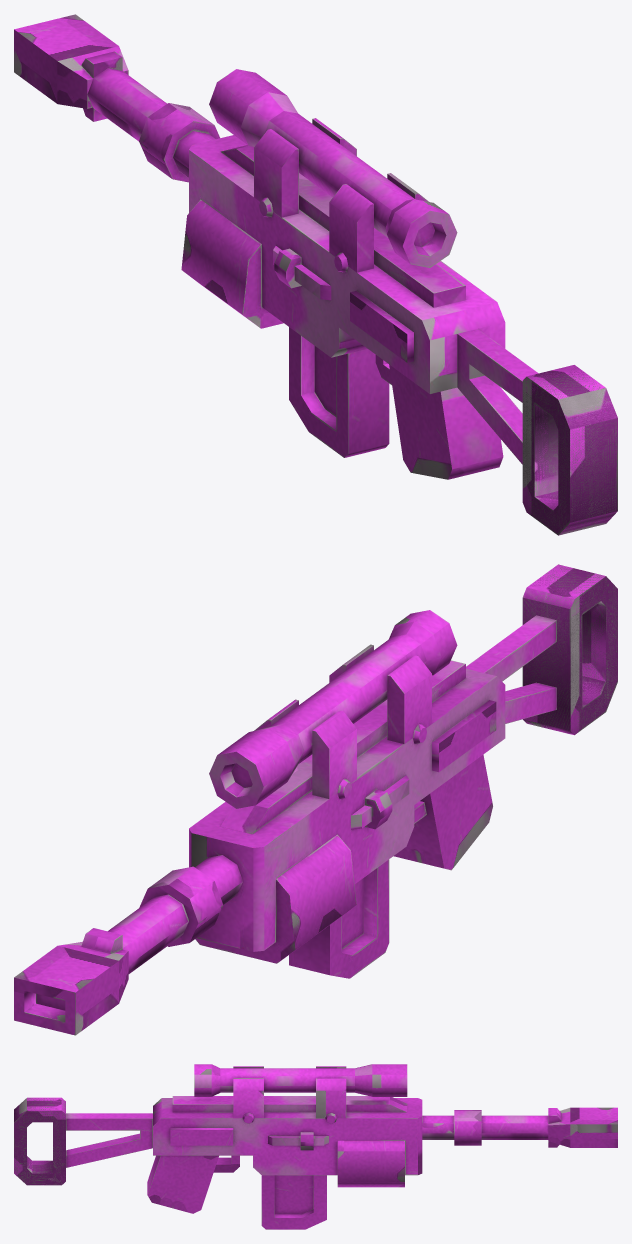
Rendered from blaster-e.glb.
3 renders of one model, top to bottom at view 1: azimuth 30°, elevation 25°; view 2: azimuth 150°, elevation 25°; view 3: azimuth 270°, elevation 25°, orthographic. The views are drawn at different scales.
Visible parts, largest first — view 1: blaster-e, scope, magazine; view 2: blaster-e, scope, magazine; view 3: blaster-e, scope, magazine.
Part boxes in pixels (x1,y1,x2,y2): blaster-e: (14, 14, 617, 535); scope: (209, 69, 457, 272); magazine: (289, 327, 389, 457); blaster-e: (14, 564, 617, 1035); scope: (209, 610, 457, 808); magazine: (289, 859, 389, 978); blaster-e: (14, 1096, 617, 1213); scope: (194, 1064, 407, 1123); magazine: (261, 1175, 326, 1229).
Size of the model in its own units: 0.1664 by 0.405 by 1.39.
Materials: 1 (1 with a texture image).
